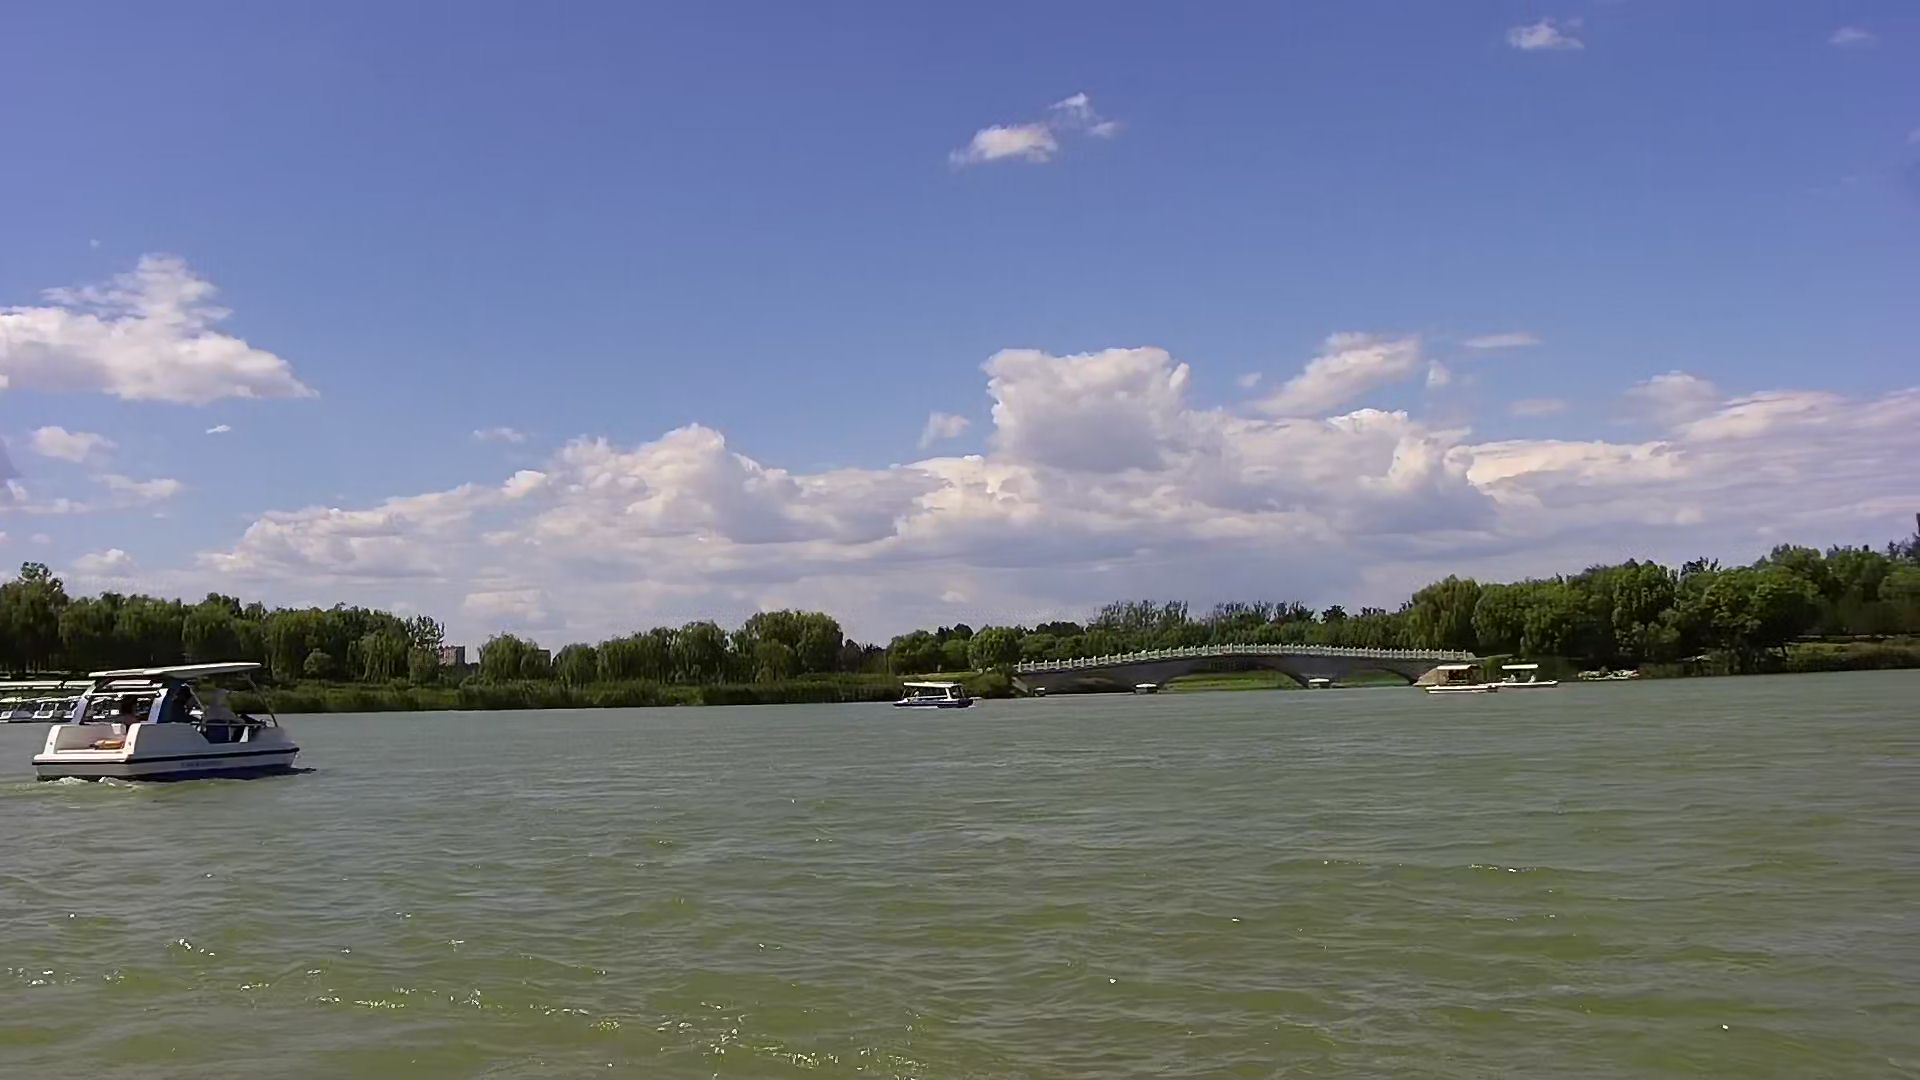boat: (28, 659, 313, 785), (898, 673, 975, 716), (1422, 666, 1497, 698), (1487, 658, 1556, 690)
bridge: (1015, 644, 1418, 694)
